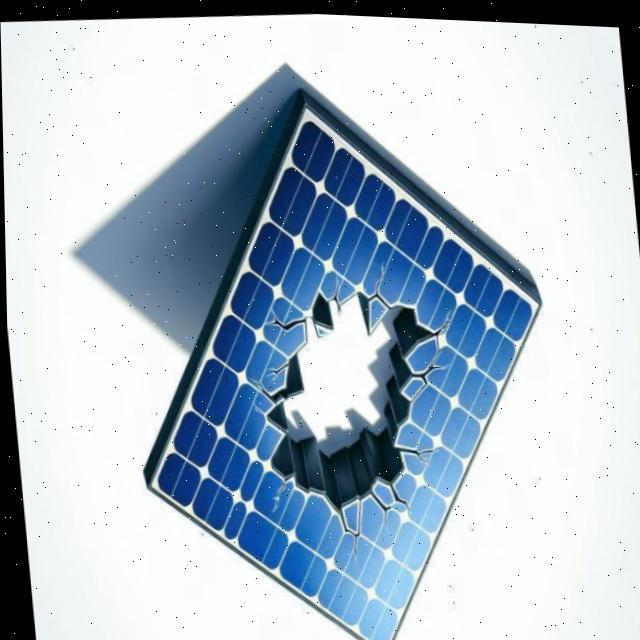Anomaly Solar Panel: (131, 102, 573, 640)
Structural Damage: (230, 257, 477, 527), (399, 306, 472, 408), (336, 497, 367, 559), (367, 260, 401, 308), (369, 484, 399, 532), (392, 436, 436, 462), (266, 306, 306, 334), (383, 481, 415, 511), (263, 357, 291, 381), (268, 477, 287, 510), (326, 275, 341, 313)
